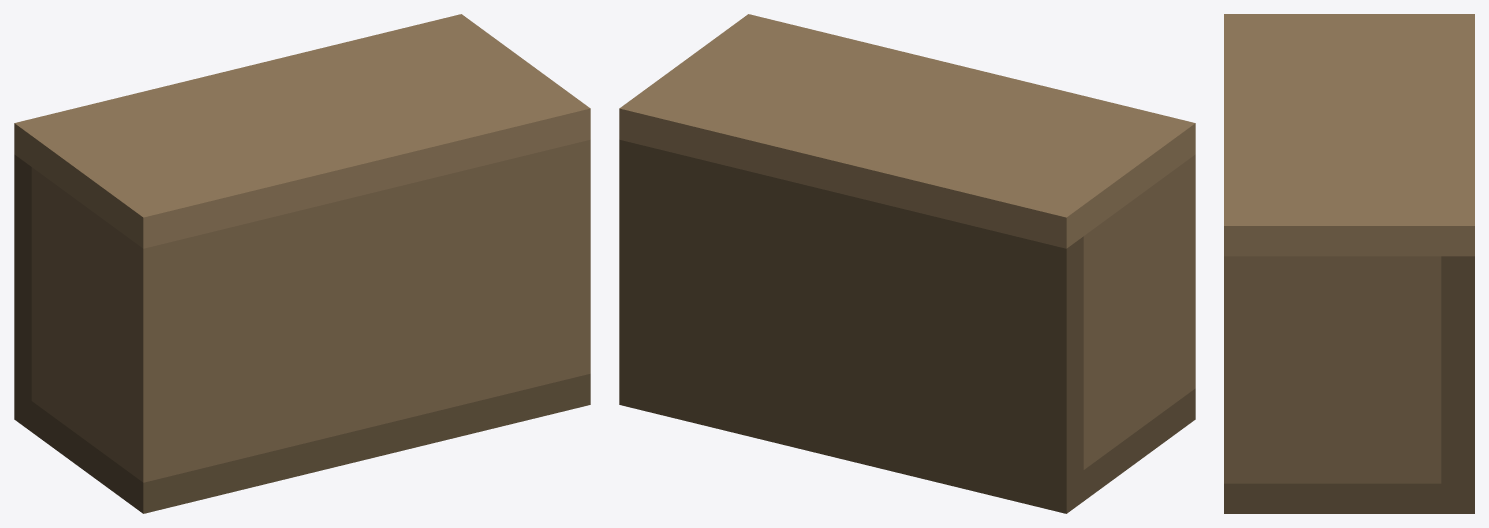
Rendered from estanteria_pociones_roble_doble_01.glb.
3 views of the same model, side by side, from view 1: azimuth 30°, elevation 25°; view 2: azimuth 150°, elevation 25°; view 3: azimuth 270°, elevation 25° (orthographic). The views are drawn at different scales.
Parts seen in each view (by area): view 1: estanteria_pociones_roble_doble; view 2: estanteria_pociones_roble_doble; view 3: estanteria_pociones_roble_doble.
Boxes of the visible parts, x1,y1,x2,y2 form: estanteria_pociones_roble_doble: [14, 14, 590, 513]; estanteria_pociones_roble_doble: [619, 14, 1195, 513]; estanteria_pociones_roble_doble: [1224, 14, 1474, 513].
Bounding box in the file's own units: 2 × 1.27 × 1.
